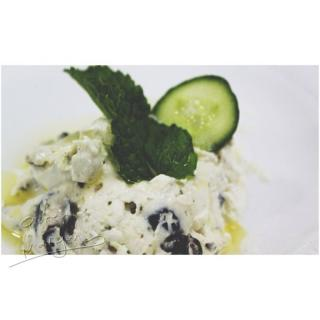Cucumber: (150, 73, 240, 152)
